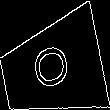O_W: (29, 42, 75, 96)
